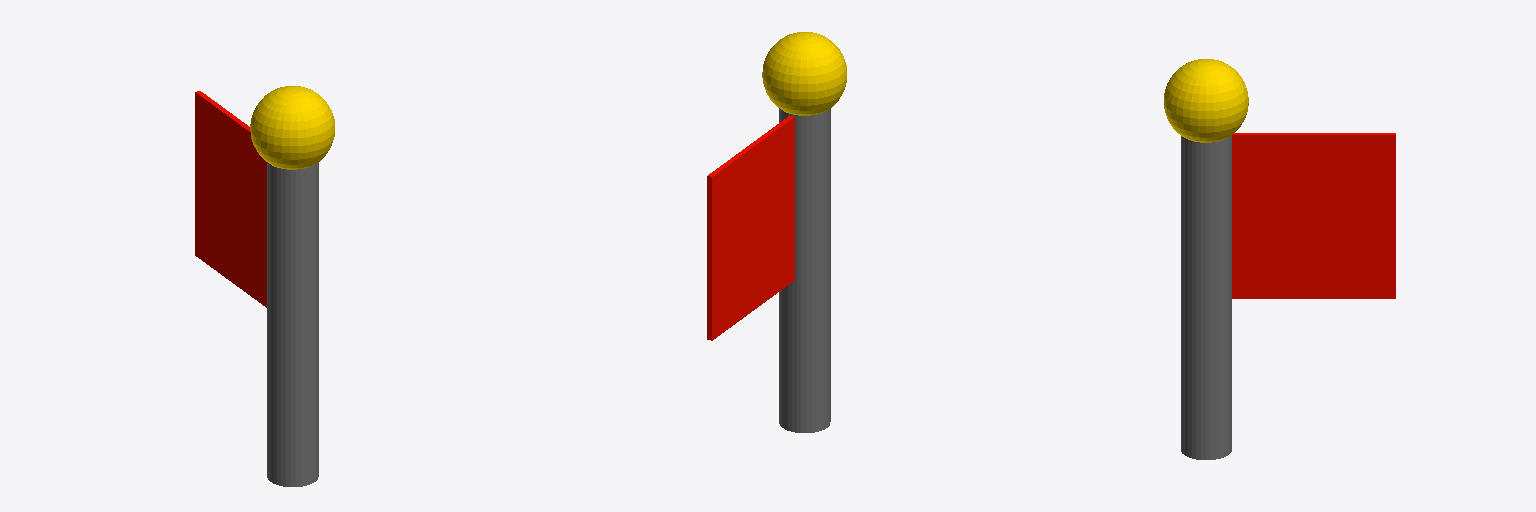
3 views of the same model, side by side, from view 1: azimuth 30°, elevation 25°; view 2: azimuth 150°, elevation 25°; view 3: azimuth 270°, elevation 25° (orthographic).
Parts seen in each view (by area): view 1: 球; view 2: 球; view 3: 球.
Part boxes in pixels (x1,y1,x2,y2): 球: (195, 86, 334, 486); 球: (707, 32, 846, 432); 球: (1164, 59, 1395, 459).
Bounding box in the file's own units: 0.2094 × 1.05 × 0.5706.
Materials: 1 (1 with a texture image).